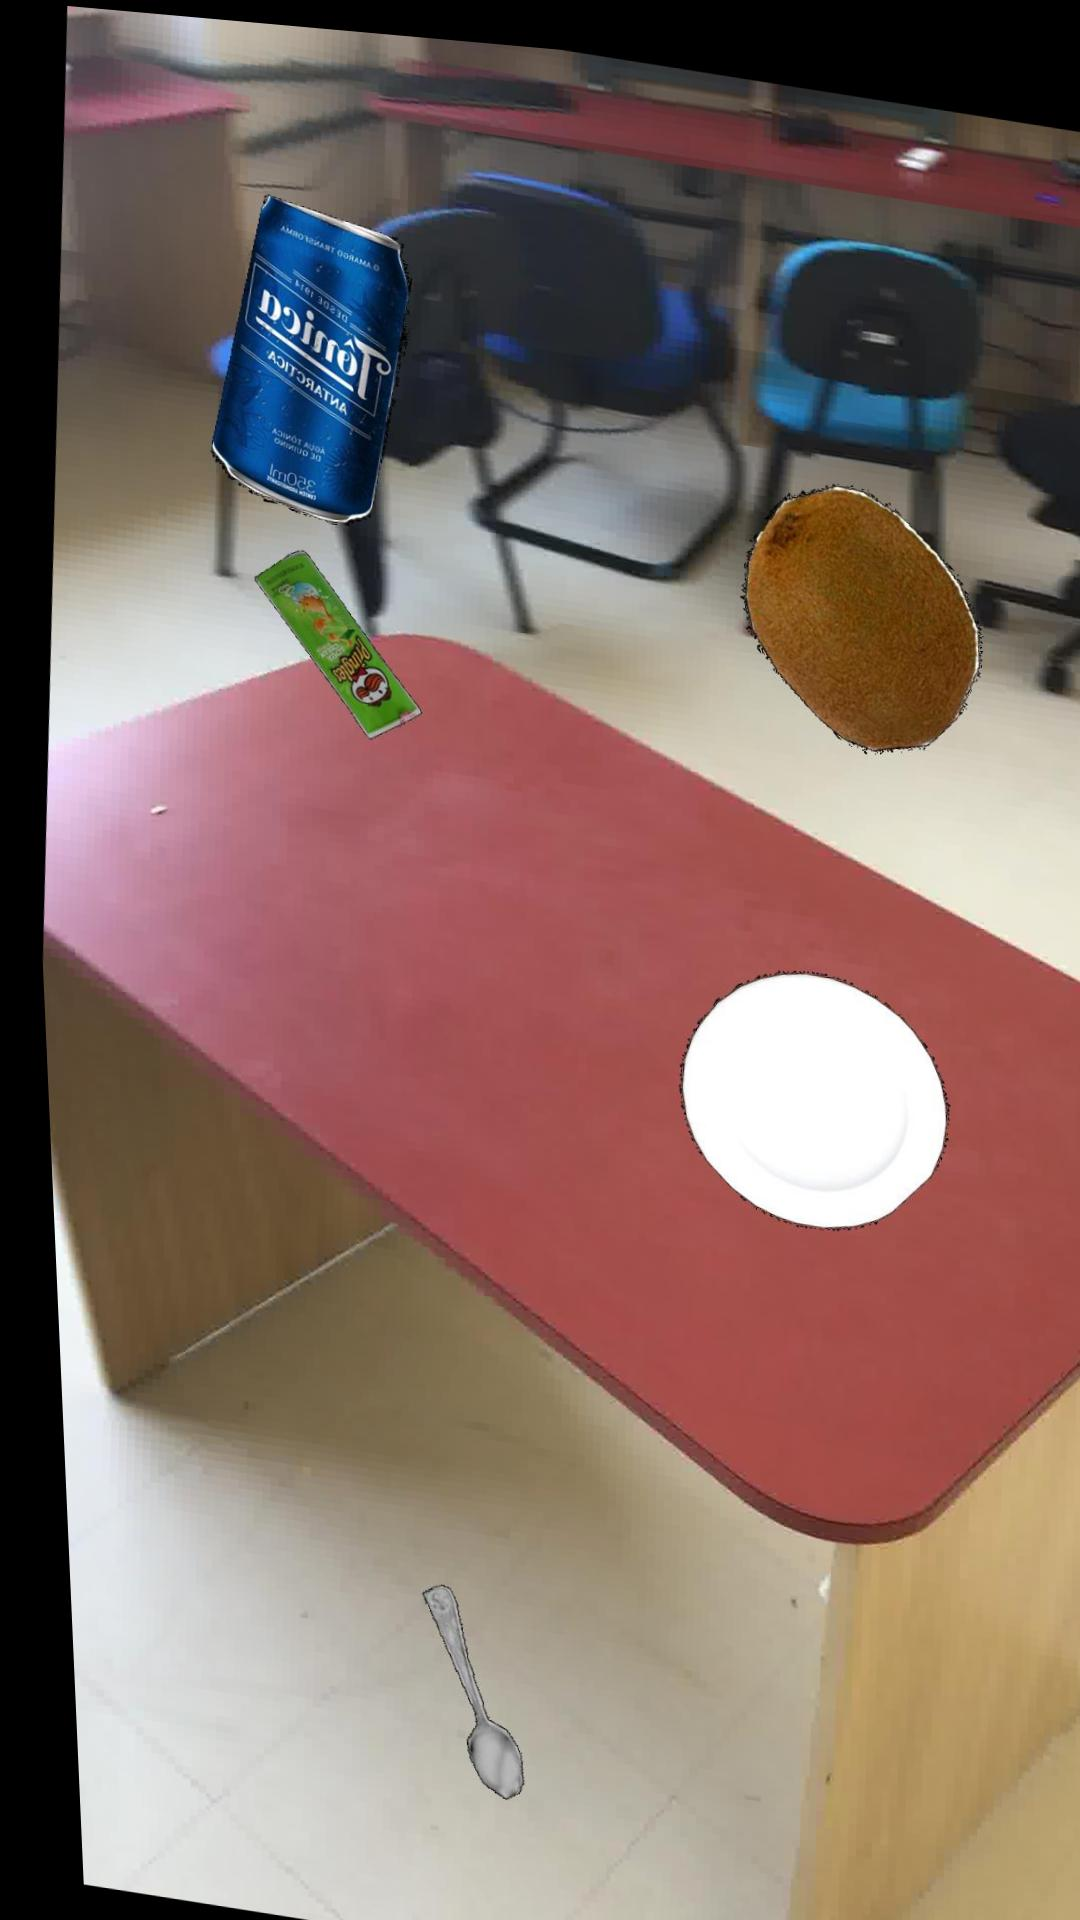kiwi: (736, 467, 977, 735)
plate: (670, 955, 940, 1212)
pringles: (249, 543, 415, 731)
spoon: (407, 1576, 508, 1789)
tonic: (207, 187, 410, 516)
